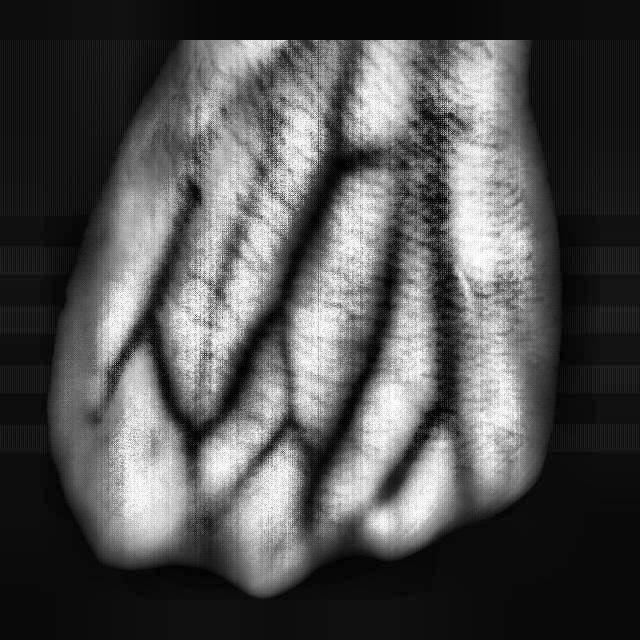Vein: (209, 162, 352, 430), (122, 85, 257, 347), (349, 112, 431, 400)
